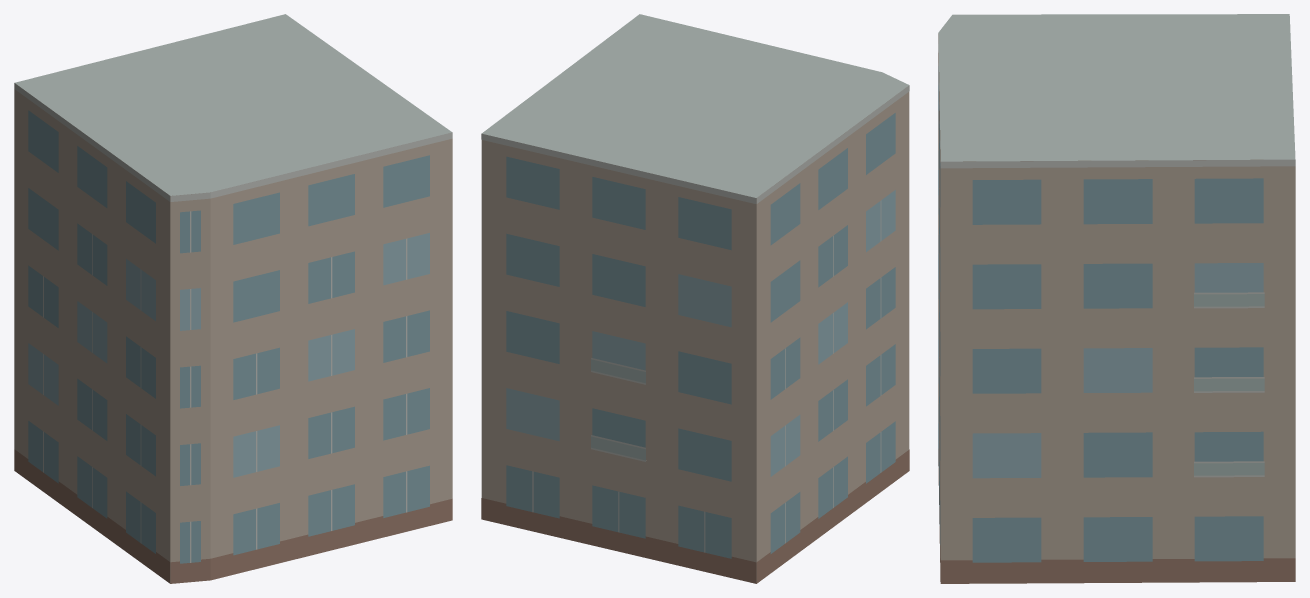
Rendered from survey-upis-32744801.glb.
3 views of the same model, side by side, from view 1: azimuth 30°, elevation 25°; view 2: azimuth 150°, elevation 25°; view 3: azimuth 270°, elevation 25° (orthographic). The views are drawn at different scales.
Parts seen in each view (by area): view 1: survey-upis-32744801.tmp; view 2: survey-upis-32744801.tmp; view 3: survey-upis-32744801.tmp.
Boxes of the visible parts, left/top/right/bottom form: survey-upis-32744801.tmp: left=14, top=14, right=452, bottom=583; survey-upis-32744801.tmp: left=481, top=14, right=909, bottom=583; survey-upis-32744801.tmp: left=938, top=14, right=1295, bottom=583.
Bounding box in the file's own units: 11.44 × 15.25 × 11.7.
